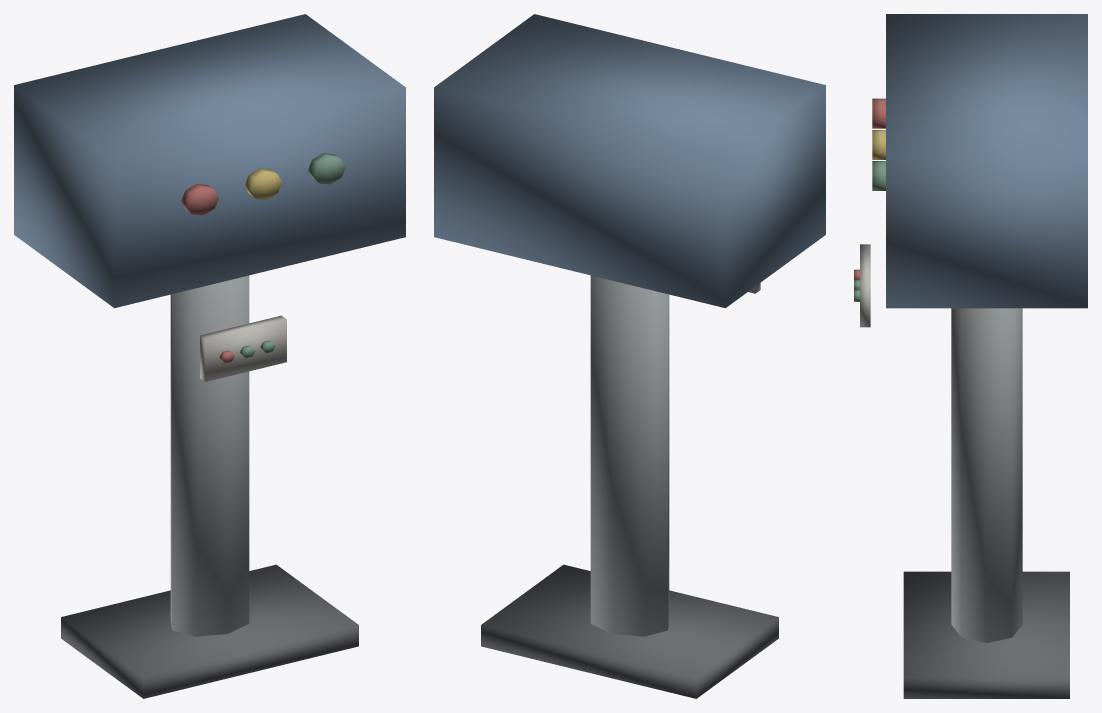
File: pedestal_machine_control__wide.glb
3 views of the same model, side by side, from view 1: azimuth 30°, elevation 25°; view 2: azimuth 150°, elevation 25°; view 3: azimuth 270°, elevation 25° (orthographic).
Visible parts, largest first — view 1: world; view 2: world; view 3: world.
Boxes of the visible parts, x1,y1,x2,y2 form: world: [14, 14, 405, 698]; world: [434, 14, 825, 698]; world: [854, 14, 1087, 698].
Bounding box in the file's own units: 0.5704 × 1.04 × 0.3935.
